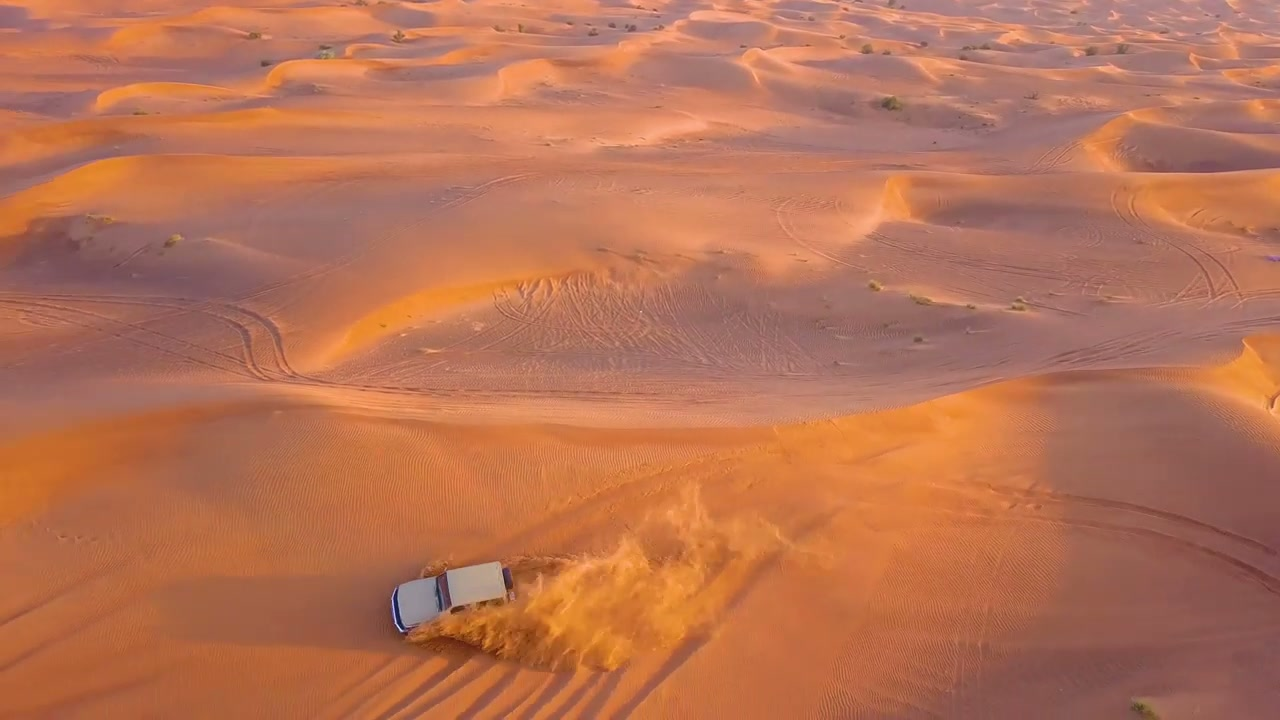vehicle_track: (0, 294, 542, 411), (0, 239, 379, 380), (233, 172, 540, 302), (933, 483, 1279, 596), (925, 501, 1279, 596), (486, 273, 805, 371), (0, 293, 299, 379), (1012, 513, 1279, 597), (982, 483, 1279, 556), (605, 283, 821, 375), (17, 301, 268, 379), (1112, 187, 1241, 305), (1110, 187, 1216, 303), (618, 284, 745, 373), (867, 230, 1063, 287), (174, 301, 301, 377), (868, 230, 1061, 280), (427, 278, 554, 353), (444, 278, 562, 351), (316, 656, 428, 719), (774, 197, 868, 272), (243, 176, 357, 237), (243, 177, 357, 236), (484, 278, 576, 348), (553, 274, 623, 351), (1165, 233, 1240, 304), (1048, 329, 1181, 366), (1188, 241, 1242, 306), (1019, 134, 1106, 174), (1022, 140, 1081, 173), (1204, 315, 1279, 336), (1055, 221, 1103, 249), (71, 53, 119, 70), (1240, 288, 1280, 304)
